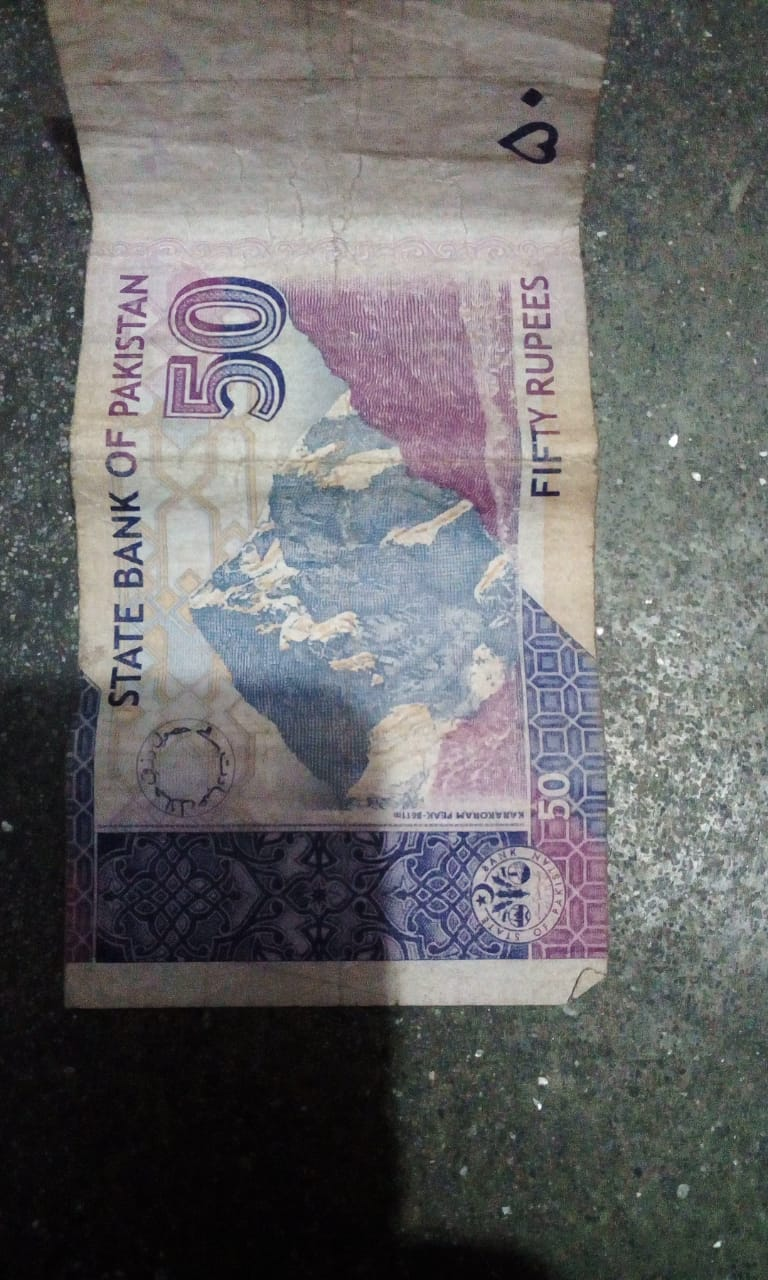50 rupee: (41, 14, 635, 1019)
